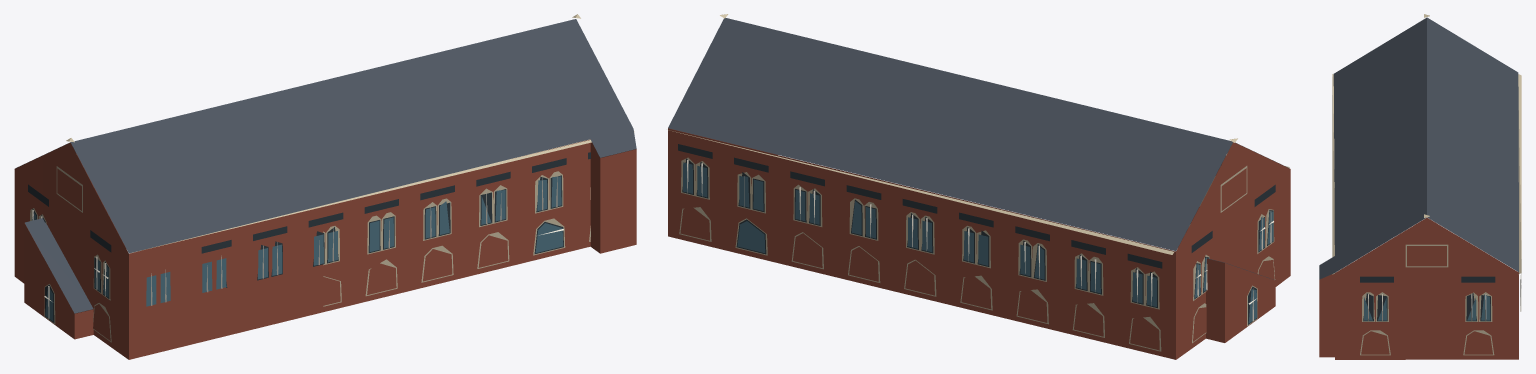
The model's file is de-wester.lod1.glb.
3 views of the same model, side by side, from view 1: azimuth 30°, elevation 25°; view 2: azimuth 150°, elevation 25°; view 3: azimuth 270°, elevation 25° (orthographic). The views are drawn at different scales.
Parts seen in each view (by area): view 1: de-wester; view 2: de-wester; view 3: de-wester.
Part boxes in pixels (bbox=[...]): de-wester: bbox=[14, 14, 636, 359]; de-wester: bbox=[668, 14, 1290, 359]; de-wester: bbox=[1319, 14, 1521, 359].
Bounding box in the file's own units: 48.48 × 15.59 × 19.79.
